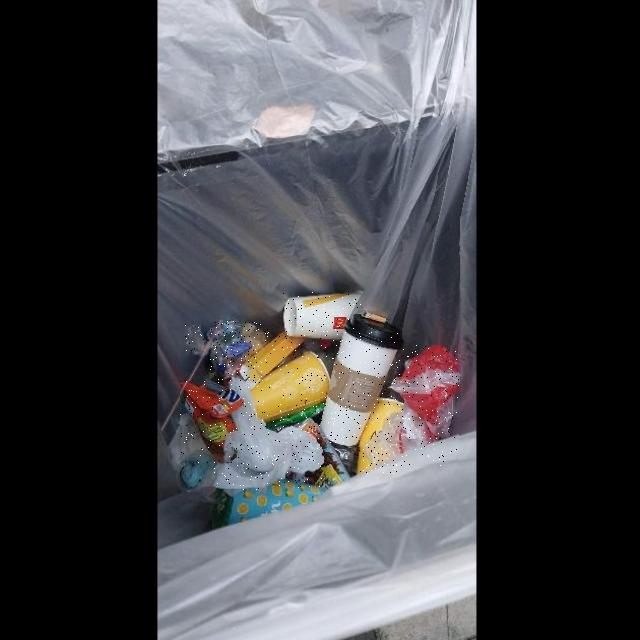paper: (320, 332, 398, 447), (252, 352, 331, 423), (240, 332, 306, 389), (284, 292, 361, 340), (357, 399, 404, 474)
plastic: (213, 377, 325, 490), (364, 346, 459, 466), (211, 320, 268, 388), (186, 325, 205, 351)
wrapper: (181, 382, 243, 464)
